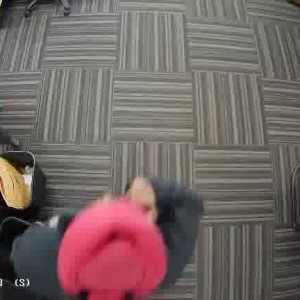person: (14, 179, 207, 300)
